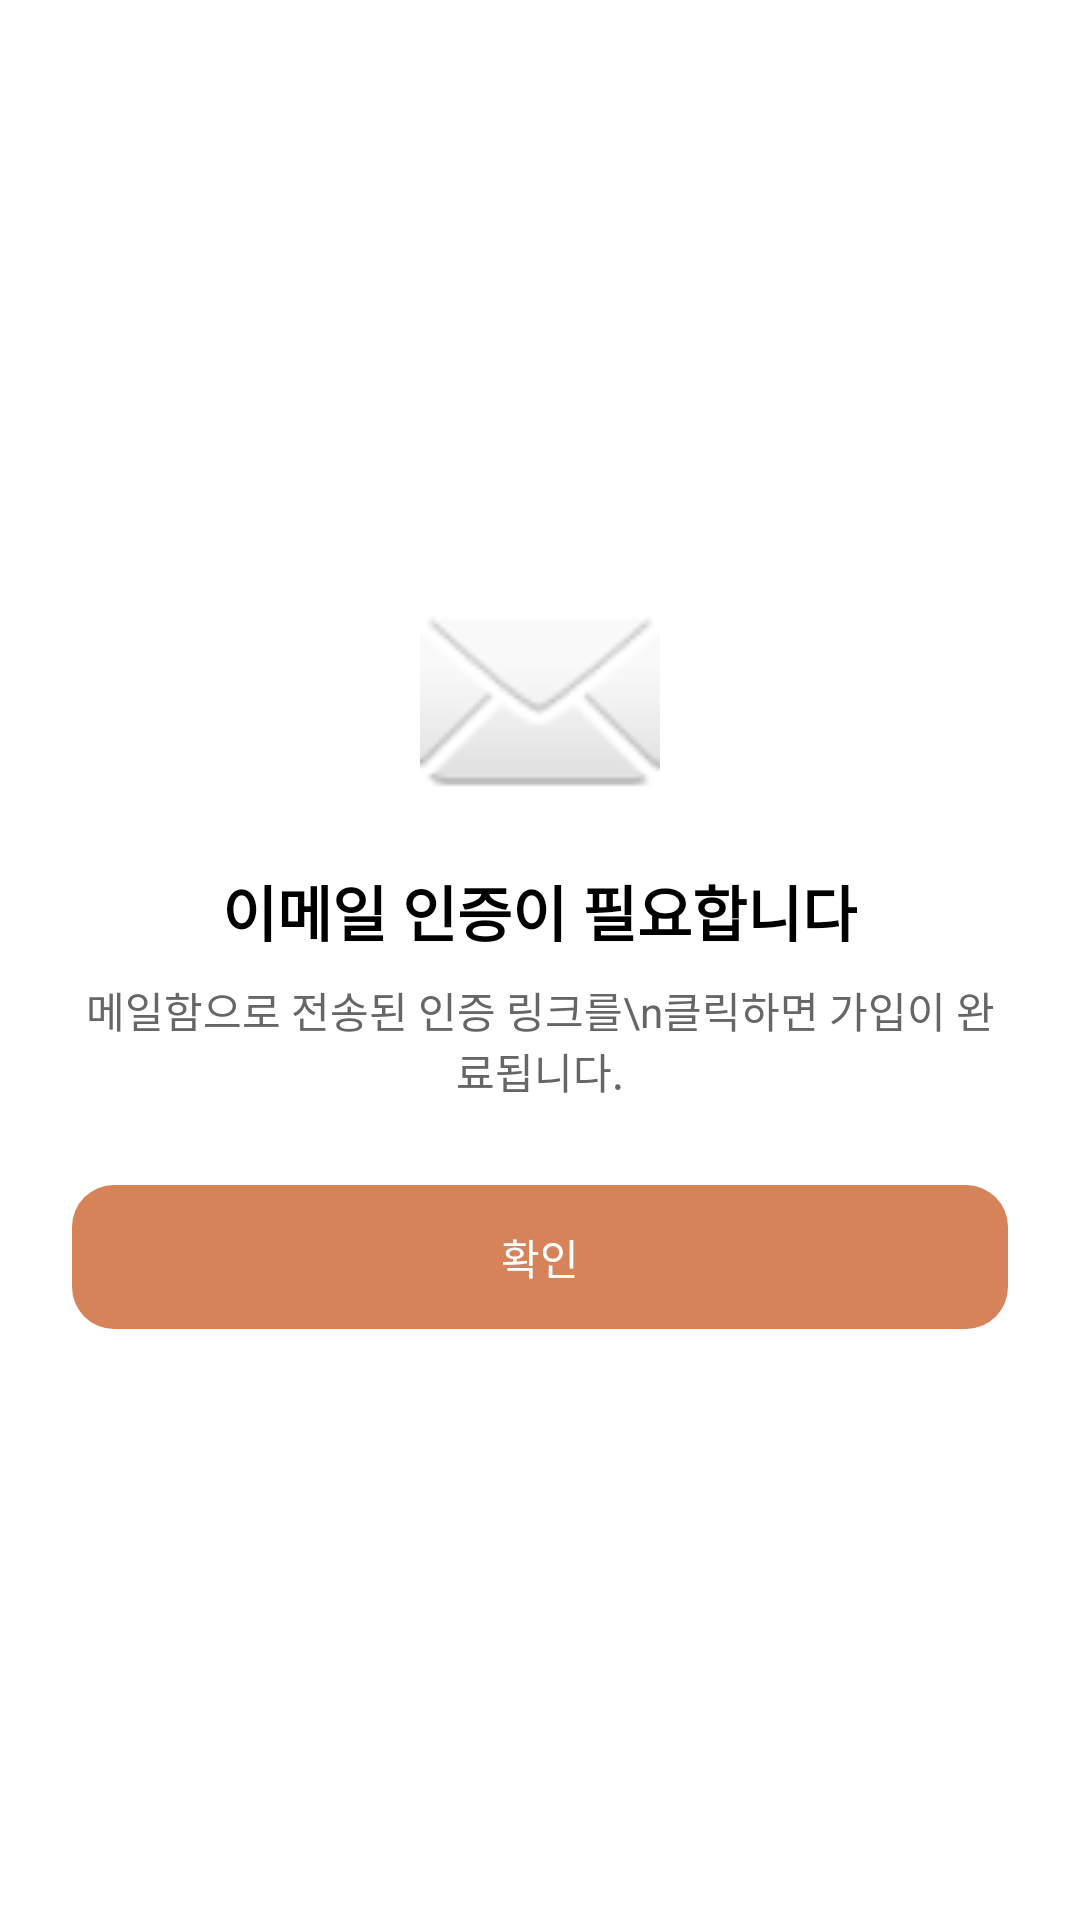

Where icons sit on this 1080×1920 app screen, as [x1=x1, y1=y1, x2=x2, y2=y2]:
email: [x1=420, y1=621, x2=660, y2=786]
